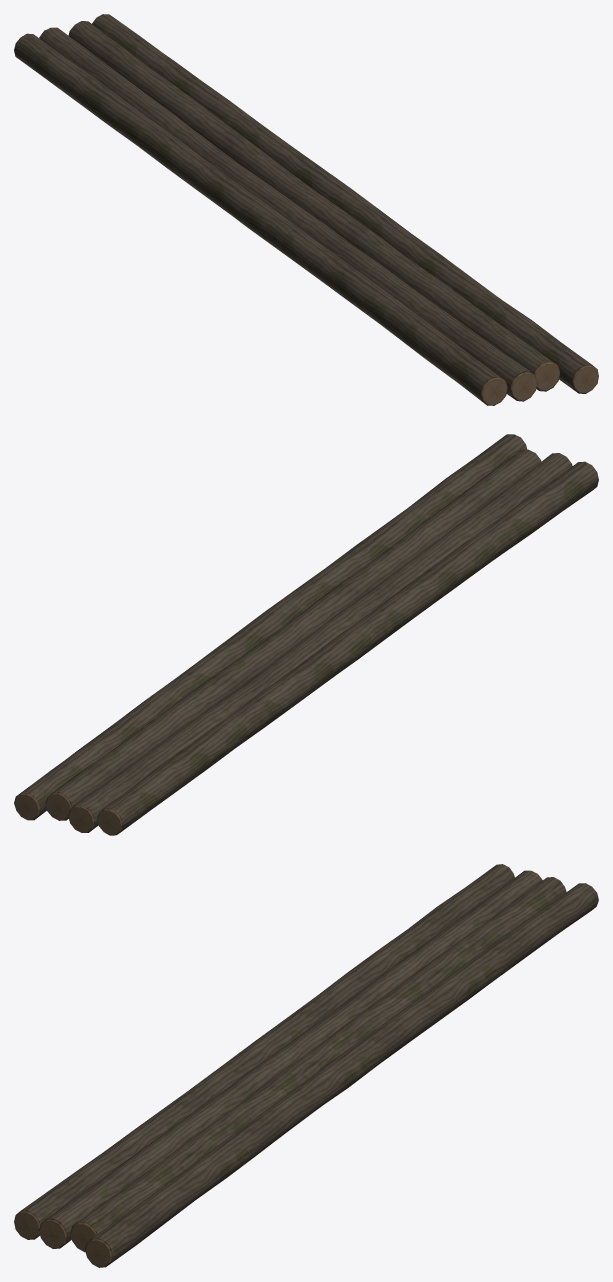
The model's file is S7U_RoofLogs_1m.fbx.
3 views of the same model, one above another, from view 1: azimuth 30°, elevation 25°; view 2: azimuth 150°, elevation 25°; view 3: azimuth 330°, elevation 25° (orthographic).
Visible parts, largest first — view 1: S7U_RoofLogs_1m; view 2: S7U_RoofLogs_1m; view 3: S7U_RoofLogs_1m.
Boxes of the visible parts, <box> form: S7U_RoofLogs_1m: <box>14,14,598,405</box>; S7U_RoofLogs_1m: <box>14,434,598,835</box>; S7U_RoofLogs_1m: <box>14,864,598,1267</box>.
Bounding box in the file's own units: 1.02 × 0.296 × 7.87.
